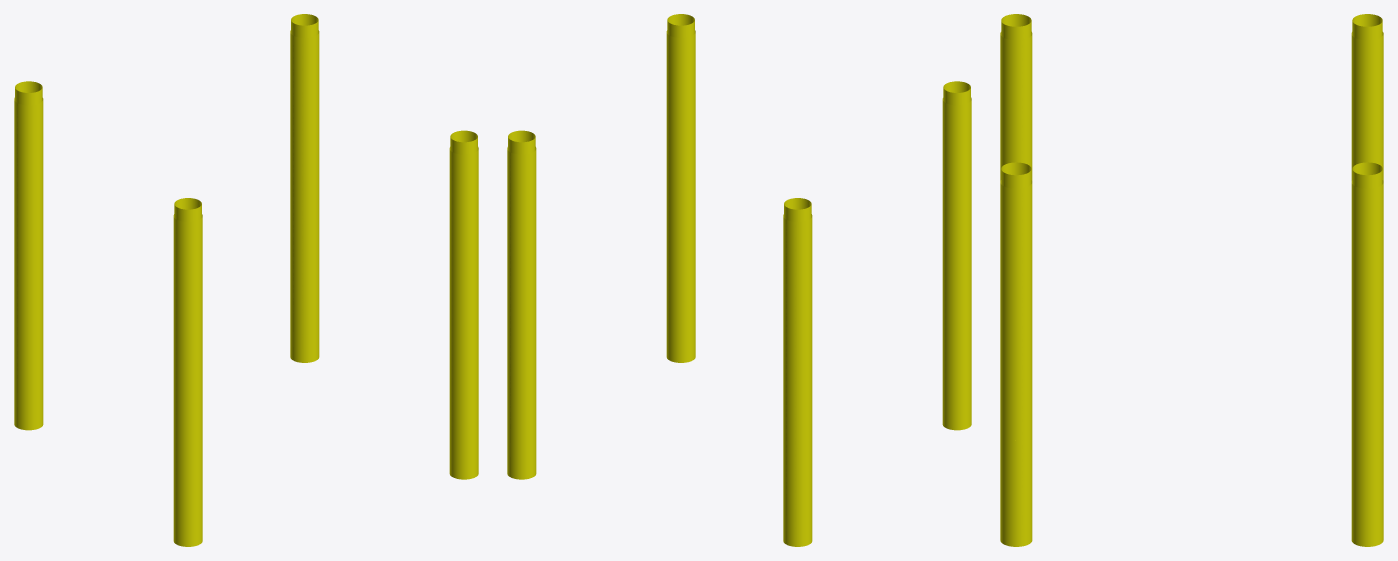
File: generic_pin_piles.glb
3 renders of one model, left to right at view 1: azimuth 30°, elevation 25°; view 2: azimuth 150°, elevation 25°; view 3: azimuth 270°, elevation 25°, orthographic. The views are drawn at different scales.
Parts seen in each view (by area): view 1: Mesh_117.002, Mesh_117, Mesh_117.003, Mesh_117.001; view 2: Mesh_117.001, Mesh_117, Mesh_117.003, Mesh_117.002; view 3: Mesh_117, Mesh_117.003, Mesh_117.001, Mesh_117.002.
Part boxes in pixels (x1=…): Mesh_117.002: x1=14, y1=81, x2=43, y2=430; Mesh_117: x1=449, y1=130, x2=478, y2=479; Mesh_117.003: x1=290, y1=14, x2=319, y2=362; Mesh_117.001: x1=173, y1=198, x2=202, y2=546; Mesh_117.001: x1=942, y1=81, x2=971, y2=430; Mesh_117: x1=666, y1=14, x2=695, y2=362; Mesh_117.003: x1=507, y1=130, x2=536, y2=479; Mesh_117.002: x1=783, y1=198, x2=812, y2=546; Mesh_117: x1=1000, y1=162, x2=1032, y2=546; Mesh_117.003: x1=1351, y1=162, x2=1383, y2=546; Mesh_117.001: x1=1000, y1=14, x2=1032, y2=180; Mesh_117.002: x1=1351, y1=14, x2=1383, y2=180.
Size of the model in its own units: 26.2 by 28 by 26.2.
